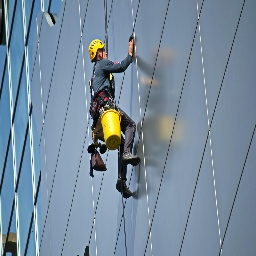helmet: (87, 37, 108, 64)
no-vest: (89, 64, 117, 106)
person: (87, 36, 139, 196)
